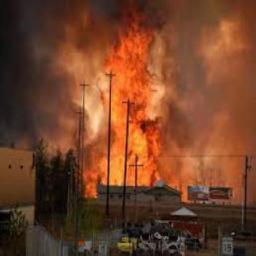Heavy smoke: (172, 3, 256, 186), (3, 0, 96, 147)
Large fire: (69, 6, 193, 207)
